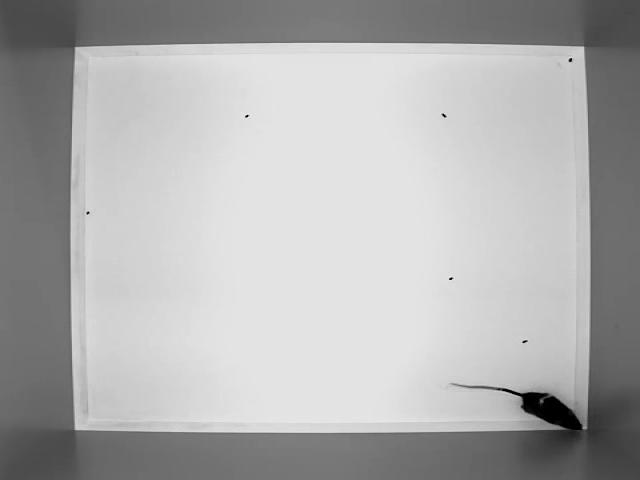Tikus: (449, 380, 584, 428)
